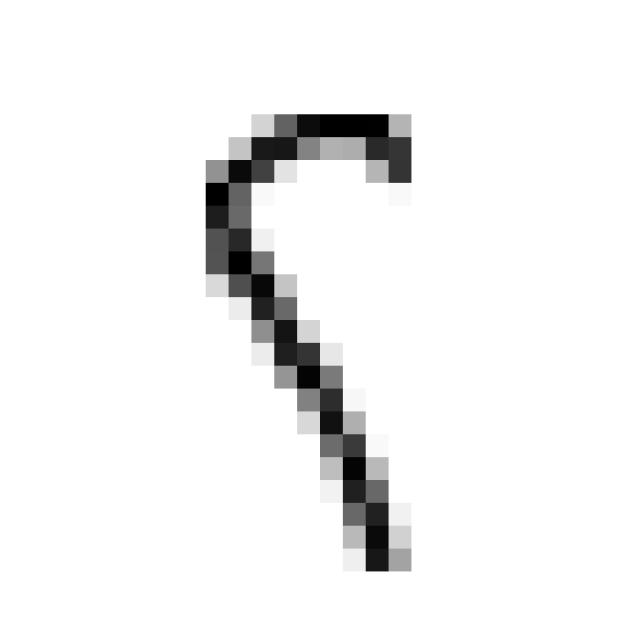2 -two-: (178, 89, 433, 590)
